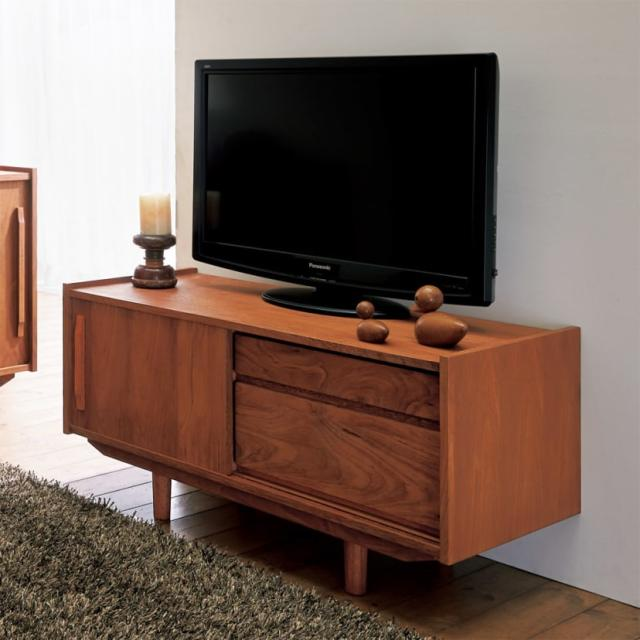vintage shelf: (55, 265, 602, 602)
